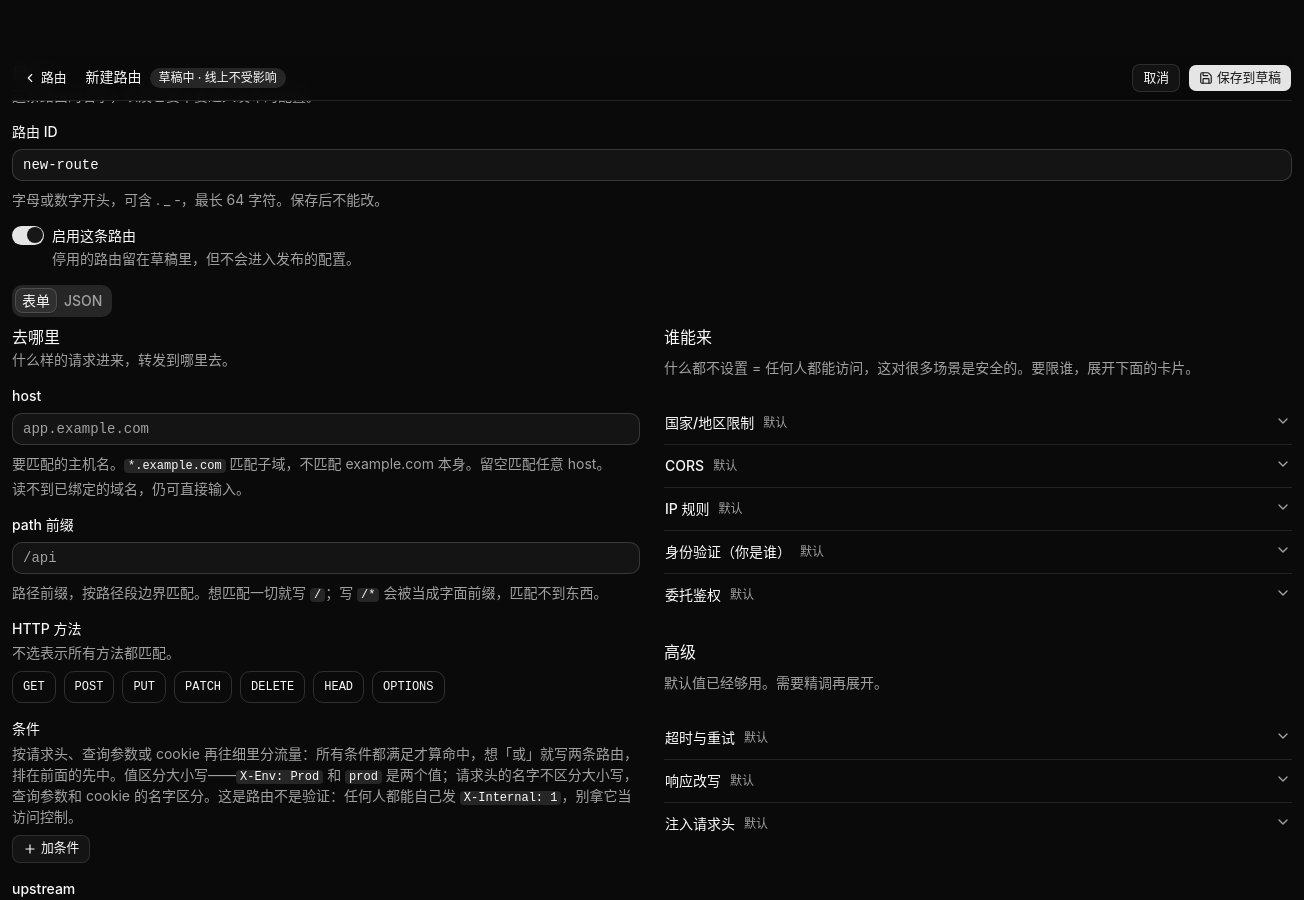
it: RouteEditor 手风琴初始展开（重设计） › 空定义全部收着；点卡头展开，能直接操作卡内控件
Click the button "委托鉴权 默认" at (693, 594), box [664,574,1292,616]
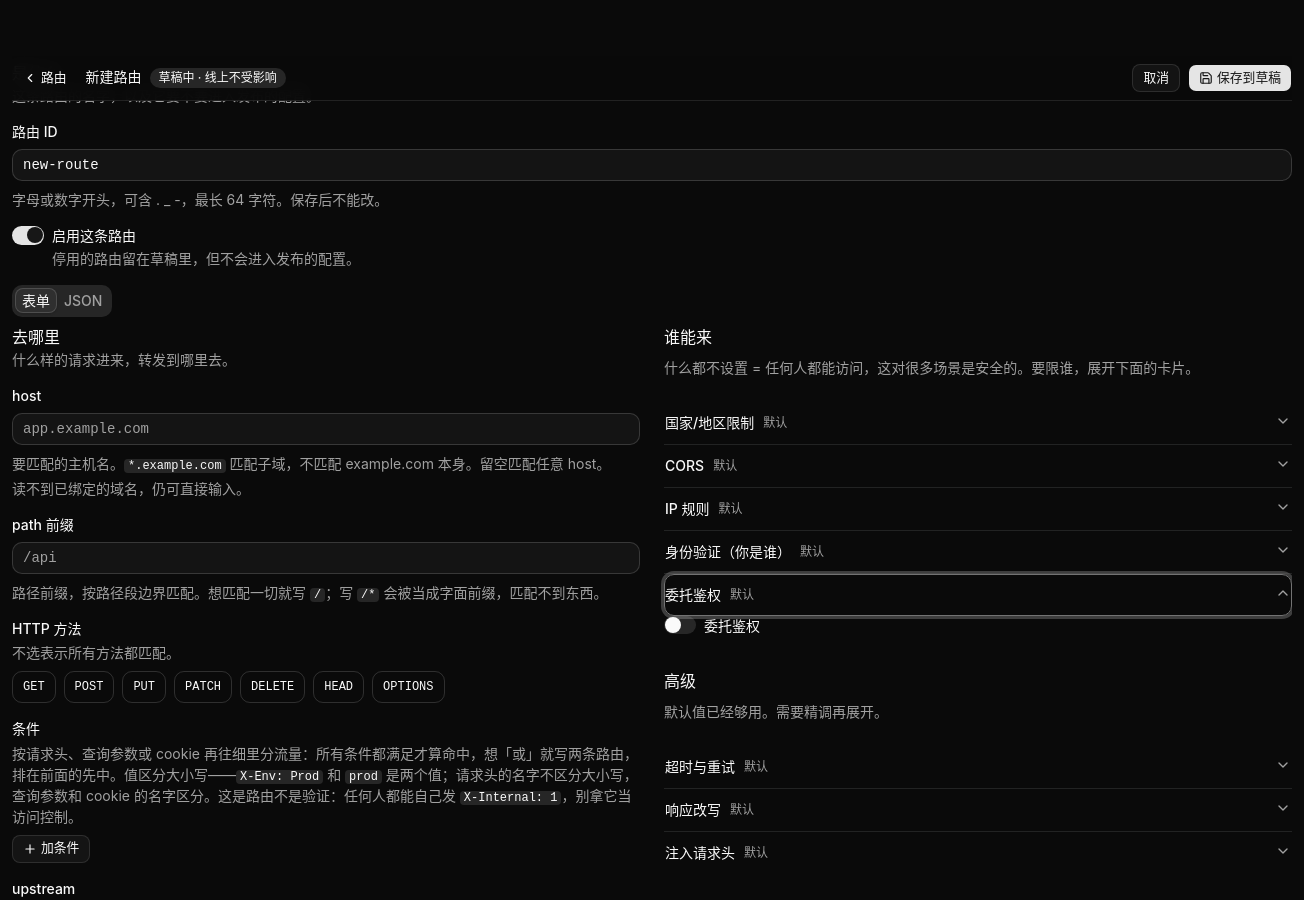
Check: the 2nd switch named "委托鉴权" is shown, box [664,616,696,634]
